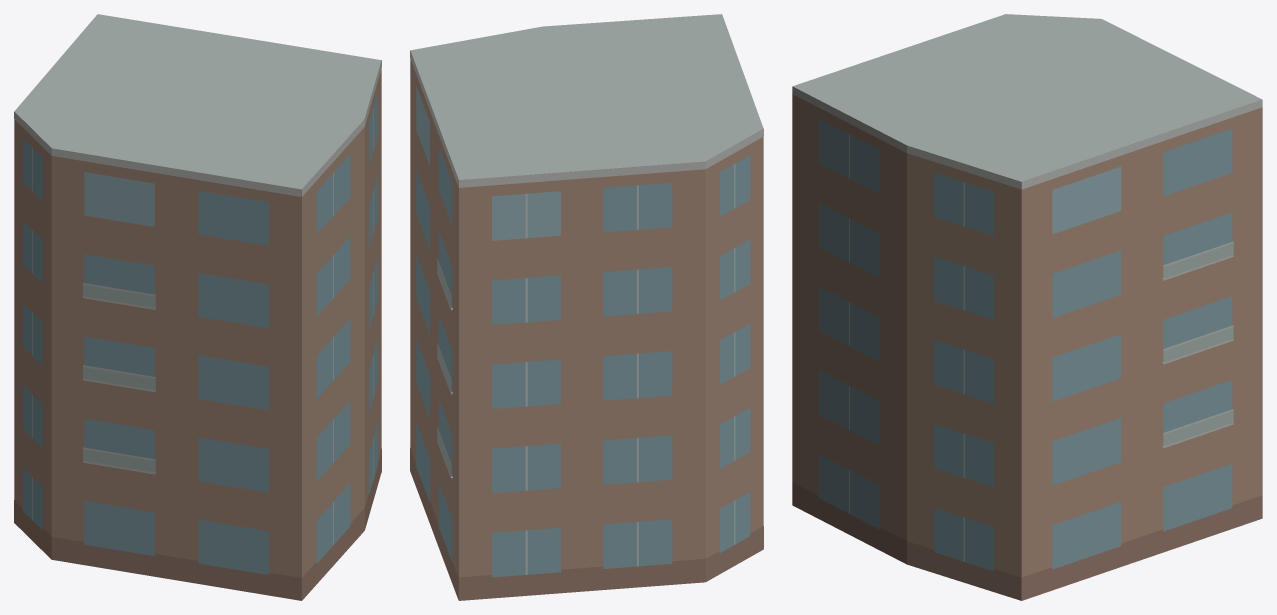
Rendered from survey-upis-33007112.glb.
3 views of the same model, side by side, from view 1: azimuth 30°, elevation 25°; view 2: azimuth 150°, elevation 25°; view 3: azimuth 270°, elevation 25° (orthographic). The views are drawn at different scales.
Parts seen in each view (by area): view 1: survey-upis-33007112.tmp; view 2: survey-upis-33007112.tmp; view 3: survey-upis-33007112.tmp.
Boxes of the visible parts, x1,y1,x2,y2 form: survey-upis-33007112.tmp: (14,14,381,600); survey-upis-33007112.tmp: (410,14,763,600); survey-upis-33007112.tmp: (792,14,1262,600).
Size of the model in its own units: 11.42 by 13.27 by 13.51.
